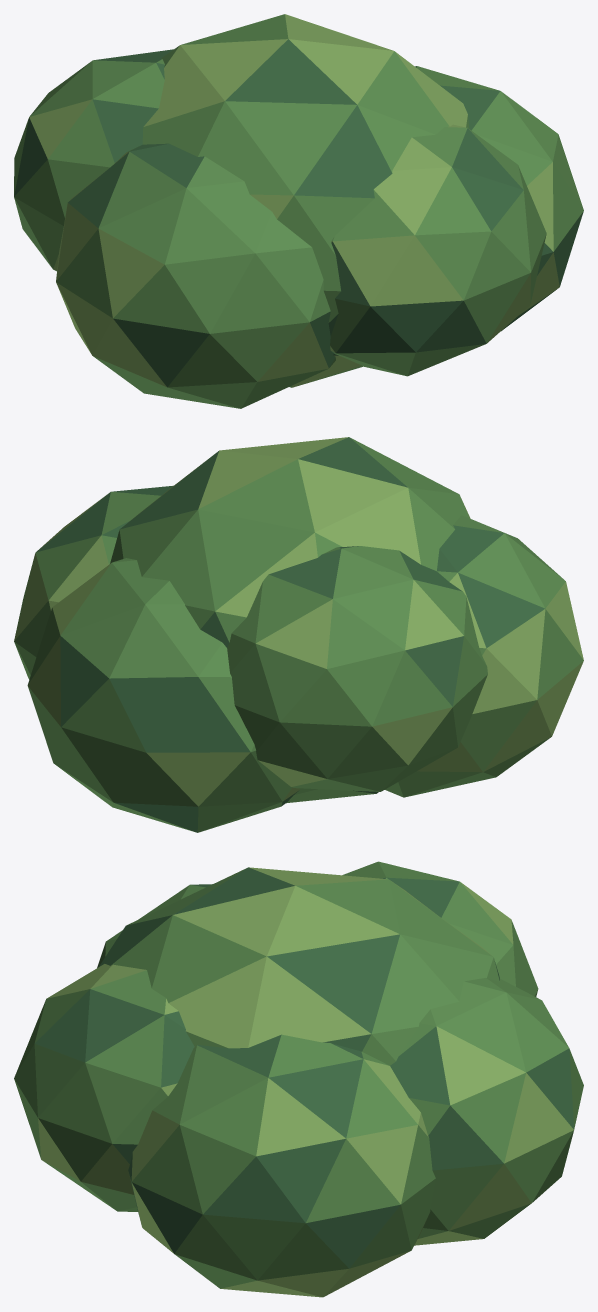
File: bush_large.glb
The picture shows the model from 3 angles, top to bottom: view 1: azimuth 30°, elevation 25°; view 2: azimuth 150°, elevation 25°; view 3: azimuth 270°, elevation 25°; orthographic projection. The views are drawn at different scales.
Parts seen in each view (by area): view 1: bush_large; view 2: bush_large; view 3: bush_large.
Part boxes in pixels (box(x1,y1,x2,y2)): bush_large: box(14, 14, 583, 408); bush_large: box(14, 437, 583, 832); bush_large: box(14, 861, 583, 1297).
Bounding box in the file's own units: 2.21 × 1.37 × 2.12.
